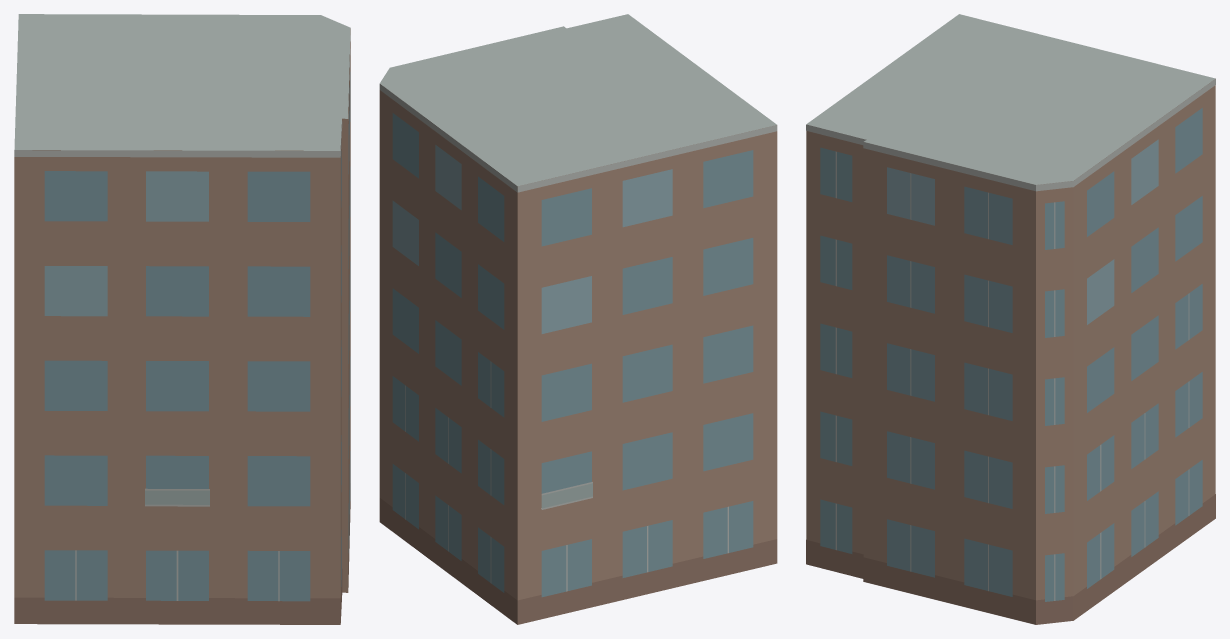
The model's file is survey-upis-32964739.glb.
The picture shows the model from 3 angles, left to right: view 1: azimuth 30°, elevation 25°; view 2: azimuth 150°, elevation 25°; view 3: azimuth 270°, elevation 25°; orthographic projection. The views are drawn at different scales.
Parts seen in each view (by area): view 1: survey-upis-32964739.tmp; view 2: survey-upis-32964739.tmp; view 3: survey-upis-32964739.tmp.
Part boxes in pixels (left/top/right/bottom): survey-upis-32964739.tmp: left=14, top=14, right=350, bottom=624; survey-upis-32964739.tmp: left=379, top=14, right=777, bottom=624; survey-upis-32964739.tmp: left=806, top=14, right=1215, bottom=624.
Bounding box in the file's own units: 14.09 × 16.9 × 14.27.
